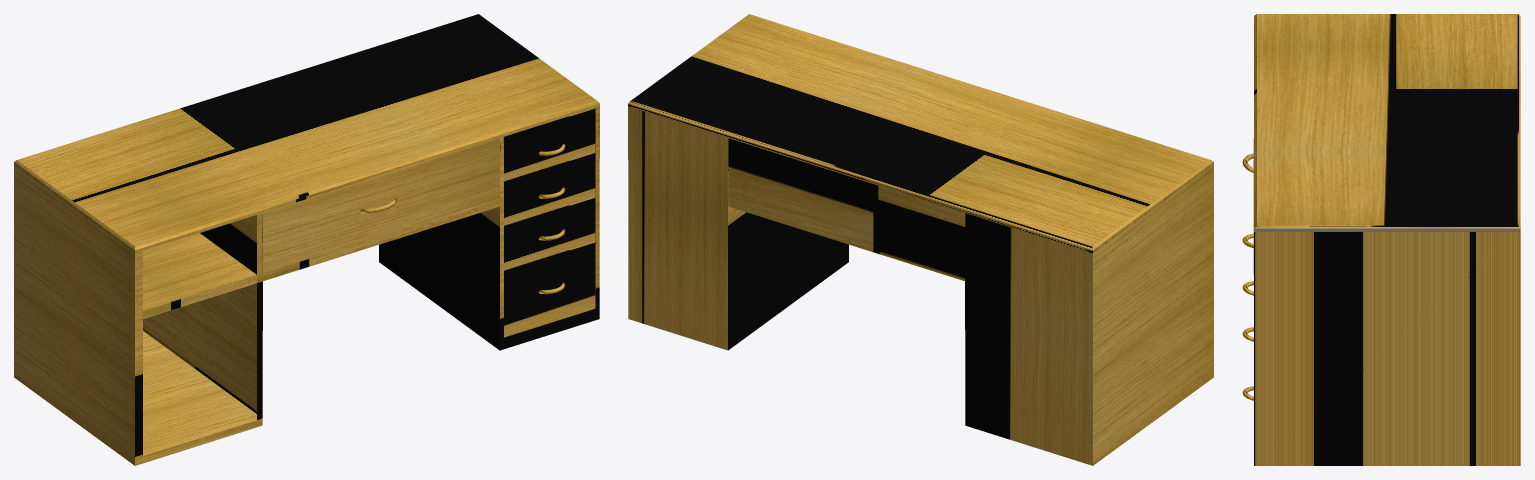
The model's file is desk1.FBX.
3 views of the same model, side by side, from view 1: azimuth 30°, elevation 25°; view 2: azimuth 150°, elevation 25°; view 3: azimuth 270°, elevation 25° (orthographic). The views are drawn at different scales.
Visible parts, largest first — view 1: Object005; view 2: Object005; view 3: Object005.
Boxes of the visible parts, x1=… form: Object005: x1=14, y1=14, x2=599, y2=465; Object005: x1=628, y1=14, x2=1213, y2=465; Object005: x1=1242, y1=14, x2=1520, y2=465.
Size of the model in its own units: 2.2 by 1.14 by 1.03.
